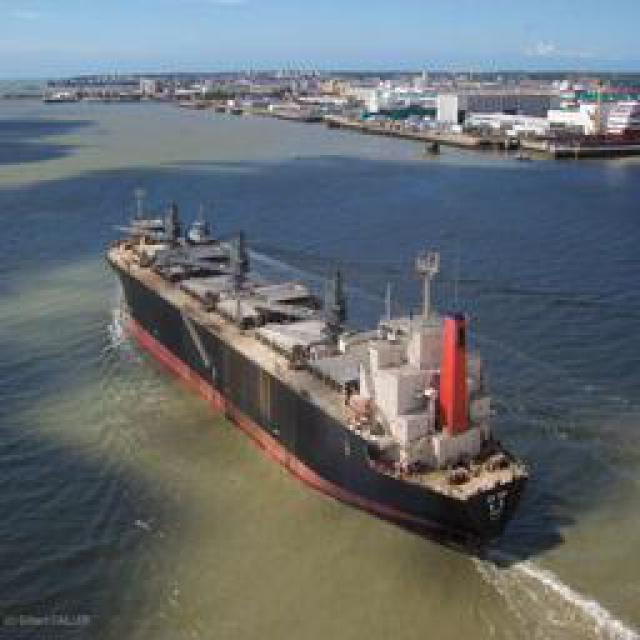Ship: (119, 216, 544, 571)
